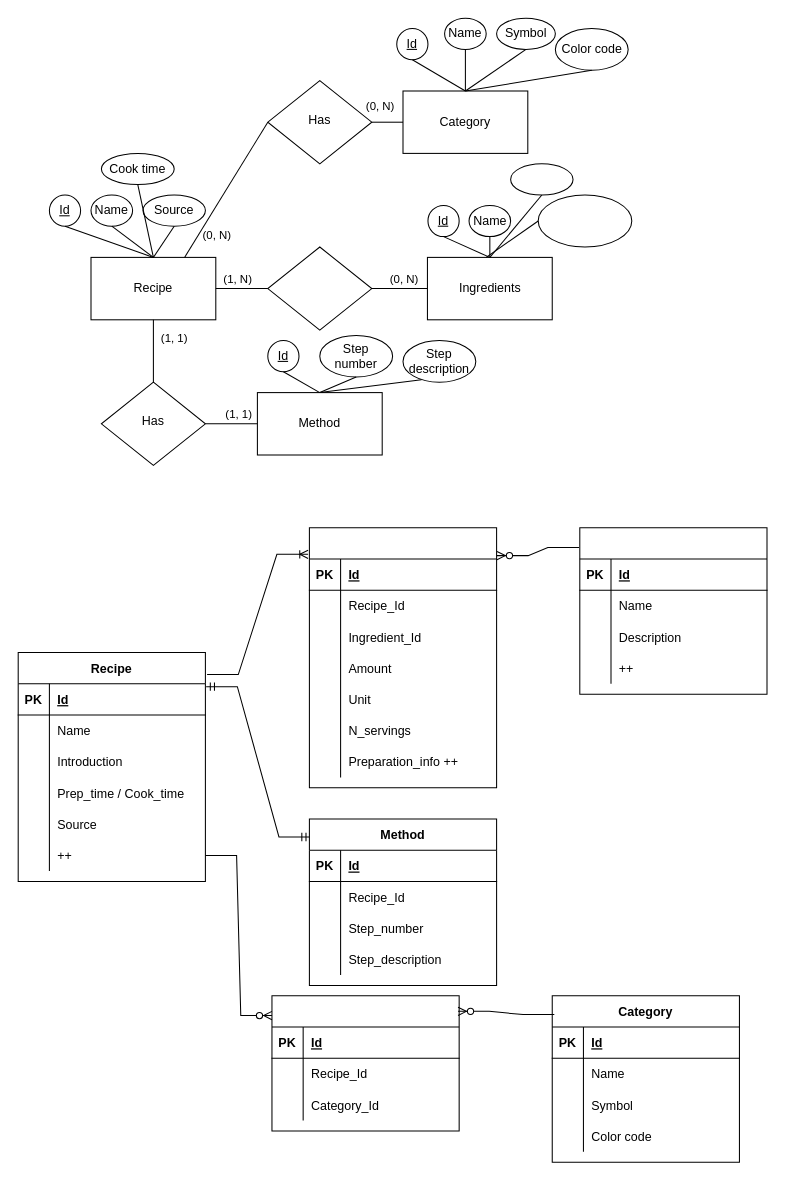
Some shapes in this 785 by 1180 pixel diagram are drawn without their labels. The box of each missing label's shape, as (x1, y1, x2, y2) in pixels:
Amount, preparation info ++: (537, 194, 632, 247)
Bridge_recipe_category: (271, 995, 459, 1131)
Bridge_recipe_ingredient: (308, 527, 497, 788)
Contains: (267, 246, 372, 330)
Ingredient: (579, 527, 767, 694)
Type: (510, 163, 573, 195)
